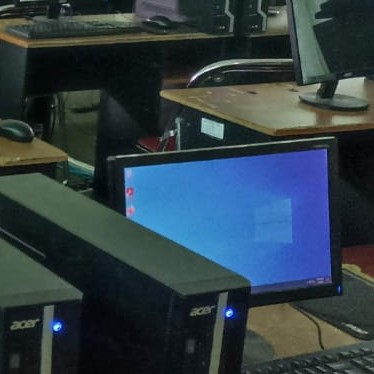monitor: (107, 136, 344, 309), (286, 0, 374, 87)
